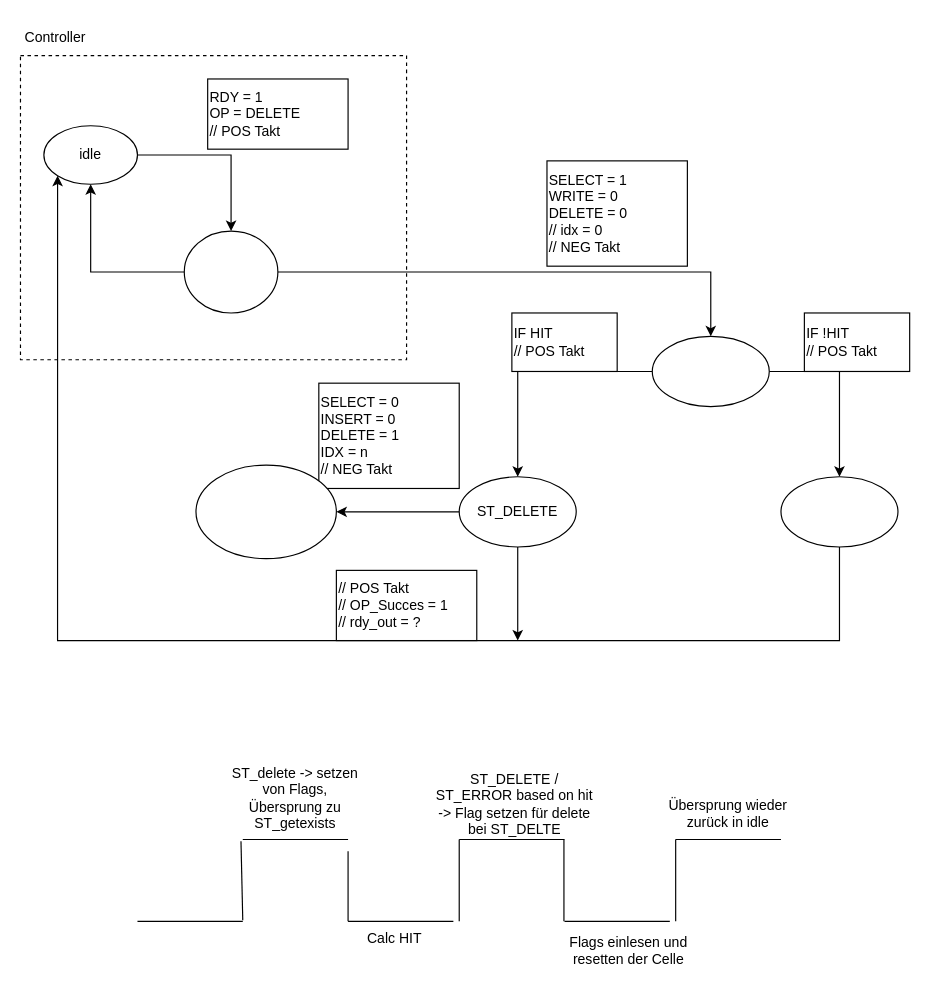
The diagram is 930 pixels wide and 999 high, and some of its shapes have lost their labels. Here are the shapes that lost their labels. From the top down, the centre of each, then its label:
At (230,271): "ST_DELTE".
At (710,371): "ST_getexist".
At (265,511): "// Memory Block resetted Cell".
At (839,511): "ST_ERROR".
